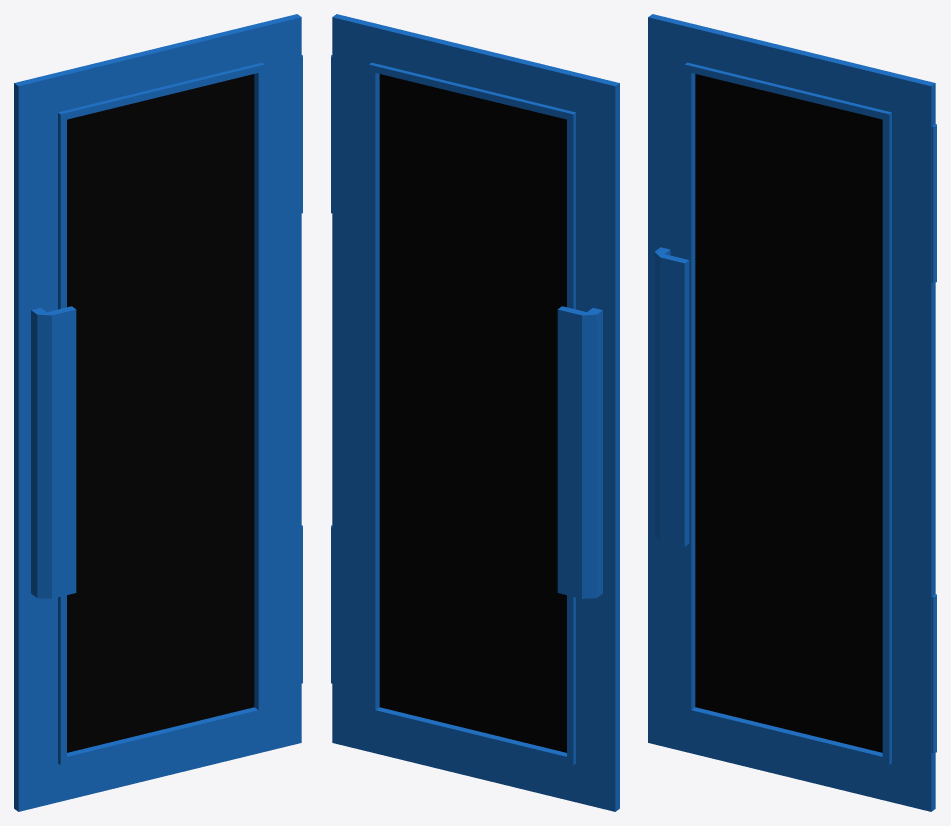
The model's file is HALF_door.fbx.
The picture shows the model from 3 angles, left to right: view 1: azimuth 30°, elevation 25°; view 2: azimuth 150°, elevation 25°; view 3: azimuth 330°, elevation 25°; orthographic projection.
Visible parts, largest first — view 1: Cylinder_6; view 2: Cylinder_6; view 3: Cylinder_6.
Part boxes in pixels (bbox=[...]): Cylinder_6: bbox=[14, 14, 302, 811]; Cylinder_6: bbox=[331, 14, 619, 811]; Cylinder_6: bbox=[648, 14, 936, 811].
Size of the model in its own units: 79.56 by 193 by 12.29.
